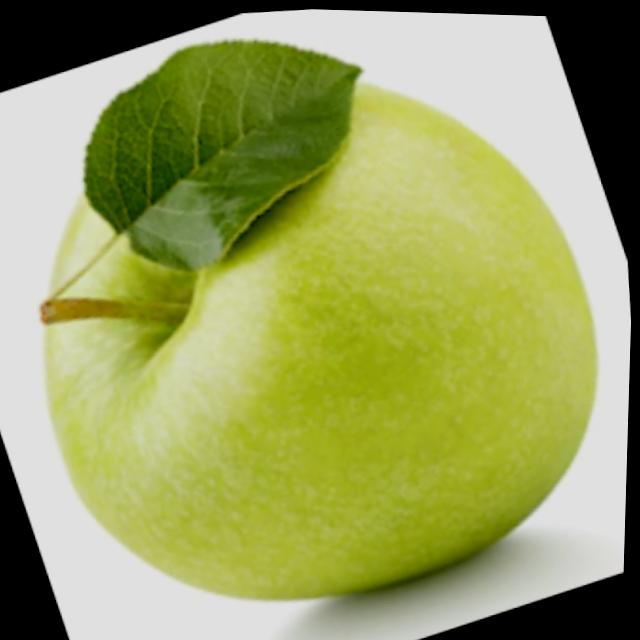organik: (3, 16, 623, 640)
